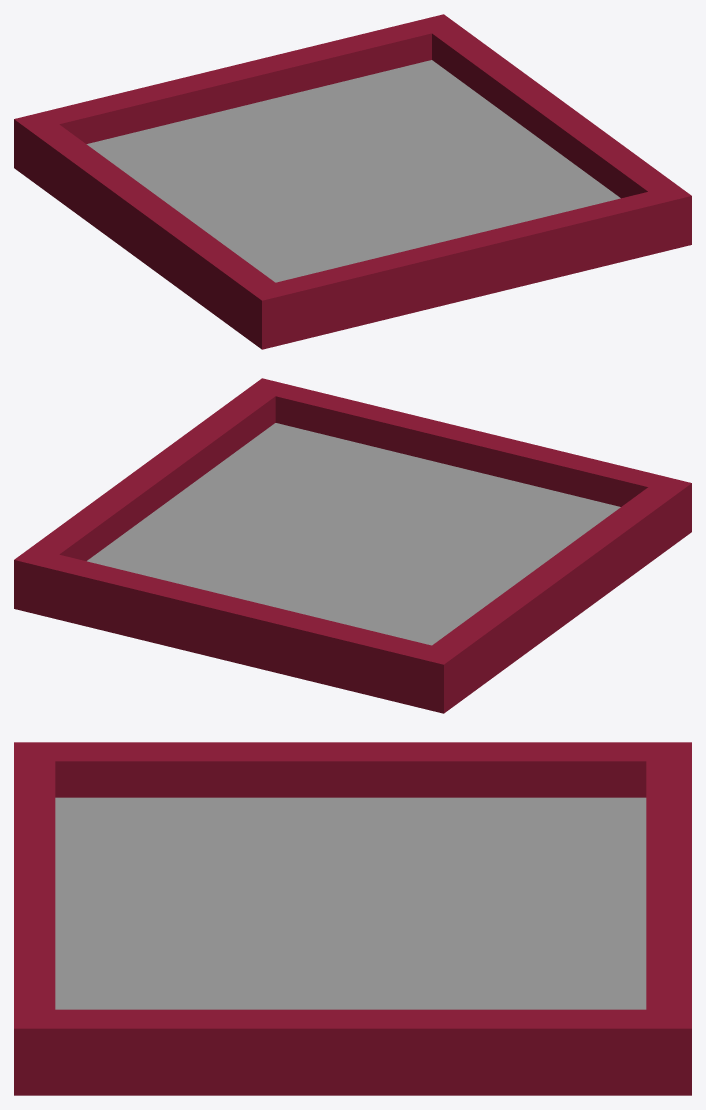
The model's file is roof1.fbx.
3 renders of one model, top to bottom at view 1: azimuth 30°, elevation 25°; view 2: azimuth 150°, elevation 25°; view 3: azimuth 270°, elevation 25°, orthographic. The views are drawn at different scales.
Visible parts, largest first — view 1: roof; view 2: roof; view 3: roof.
Boxes of the visible parts, x1,y1,x2,y2 form: roof: (14,14,691,349); roof: (14,378,691,713); roof: (14,742,691,1095).
Size of the model in its own units: 5.94 by 0.6468 by 5.94.
